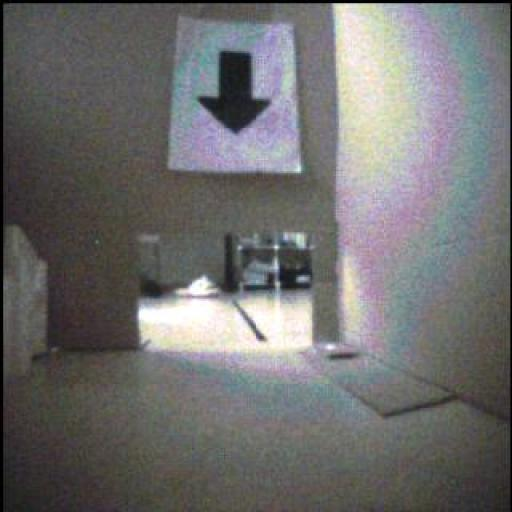arrow: (200, 52, 272, 134)
